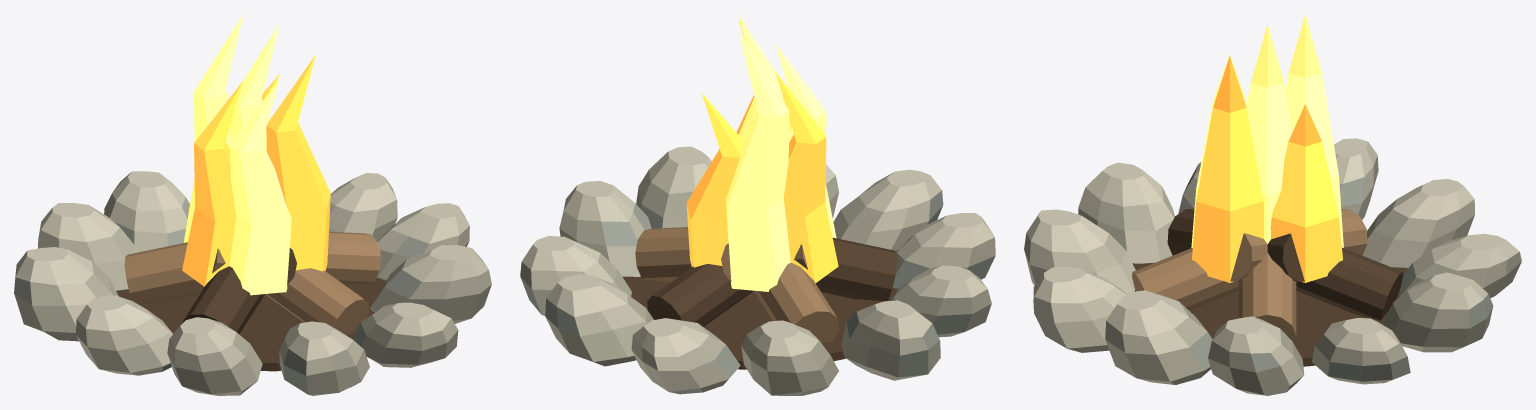
File: beach_campfire.glb
3 renders of one model, left to right at view 1: azimuth 30°, elevation 25°; view 2: azimuth 150°, elevation 25°; view 3: azimuth 270°, elevation 25°, orthographic. The views are drawn at different scales.
Visible parts, largest first — view 1: Flame_04, Flame_05, Flame_03, Fire_ring_stone.005, Fire_ring_stone.010, Fire_ring_stone.006, Fire_ring_stone.007, Fire_ring_stone.009, Fire_ring_stone.008, Fire_ring_stone.003, Fire_ring_stone.004, Coal_bed (+8 smaller); view 2: Flame_02, Fire_ring_stone.002, Flame_03, Fire_ring_stone.005, Fire_ring_stone.008, Fire_ring_stone.003, Fire_ring_stone.004, Fire_ring_stone, Flame_01, Fire_ring_stone.007, Fire_ring_stone.006, Coal_bed (+9 smaller); view 3: Flame_05, Fire_ring_stone.010, Flame_01, Fire_ring_stone.002, Fire_ring_stone.007, Fire_ring_stone.004, Fire_ring_stone.009, Fire_ring_stone, Fire_ring_stone.008, Flame_00, Fire_ring_stone.001, Fire_ring_stone.003 (+10 smaller).
Part boxes in pixels (left/top/right/bottom): Flame_04: left=229, top=80, right=291, bottom=295; Flame_05: left=266, top=54, right=330, bottom=271; Flame_03: left=182, top=80, right=243, bottom=286; Fire_ring_stone.005: left=14, top=247, right=118, bottom=341; Fire_ring_stone.010: left=370, top=245, right=491, bottom=323; Fire_ring_stone.006: left=76, top=295, right=172, bottom=375; Fire_ring_stone.007: left=167, top=317, right=262, bottom=395; Fire_ring_stone.009: left=353, top=302, right=458, bottom=367; Fire_ring_stone.008: left=279, top=321, right=369, bottom=395; Fire_ring_stone.003: left=104, top=171, right=189, bottom=252; Fire_ring_stone.004: left=38, top=202, right=137, bottom=291; Coal_bed: left=117, top=277, right=386, bottom=371; Flame_02: left=726, top=32, right=790, bottom=291; Fire_ring_stone.002: left=545, top=274, right=653, bottom=366; Flame_03: left=776, top=73, right=838, bottom=283; Fire_ring_stone.005: left=841, top=300, right=940, bottom=380; Fire_ring_stone.008: left=833, top=169, right=943, bottom=252; Fire_ring_stone.003: left=631, top=318, right=740, bottom=394; Fire_ring_stone.004: left=741, top=320, right=838, bottom=395; Fire_ring_stone: left=559, top=181, right=651, bottom=277; Flame_01: left=686, top=93, right=743, bottom=267; Fire_ring_stone.007: left=892, top=212, right=995, bottom=288; Fire_ring_stone.006: left=890, top=265, right=991, bottom=337; Coal_bed: left=623, top=276, right=898, bottom=369; Flame_05: left=1192, top=56, right=1263, bottom=282; Fire_ring_stone.010: left=1105, top=290, right=1212, bottom=384; Flame_01: left=1270, top=104, right=1342, bottom=282; Fire_ring_stone.002: left=1382, top=272, right=1493, bottom=352; Fire_ring_stone.007: left=1078, top=162, right=1174, bottom=264; Fire_ring_stone.004: left=1362, top=178, right=1474, bottom=268; Fire_ring_stone.009: left=1033, top=266, right=1126, bottom=352; Fire_ring_stone: left=1208, top=316, right=1304, bottom=395; Fire_ring_stone.008: left=1024, top=209, right=1135, bottom=294; Flame_00: left=1246, top=24, right=1292, bottom=243; Fire_ring_stone.001: left=1312, top=318, right=1410, bottom=384; Fire_ring_stone.003: left=1399, top=233, right=1521, bottom=298.
Bounding box in the file's own units: 1.78 × 1.19 × 1.83.
